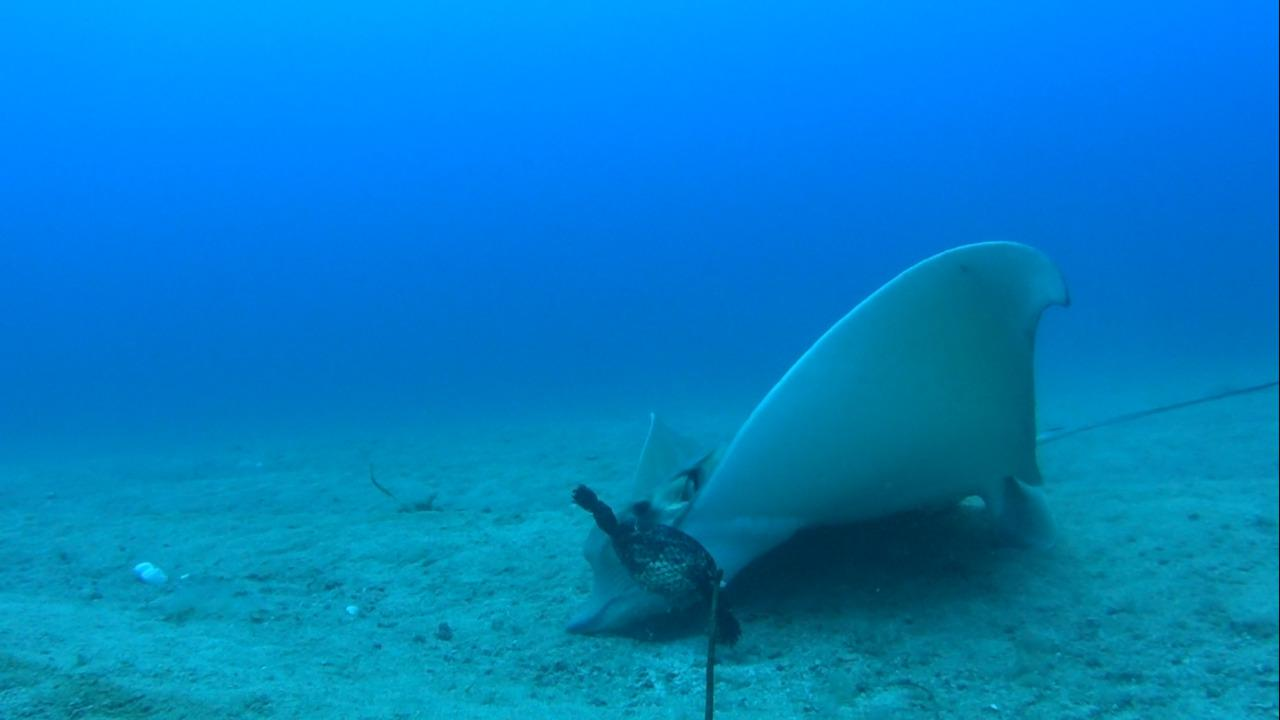myliobatis: (558, 236, 1279, 636)
